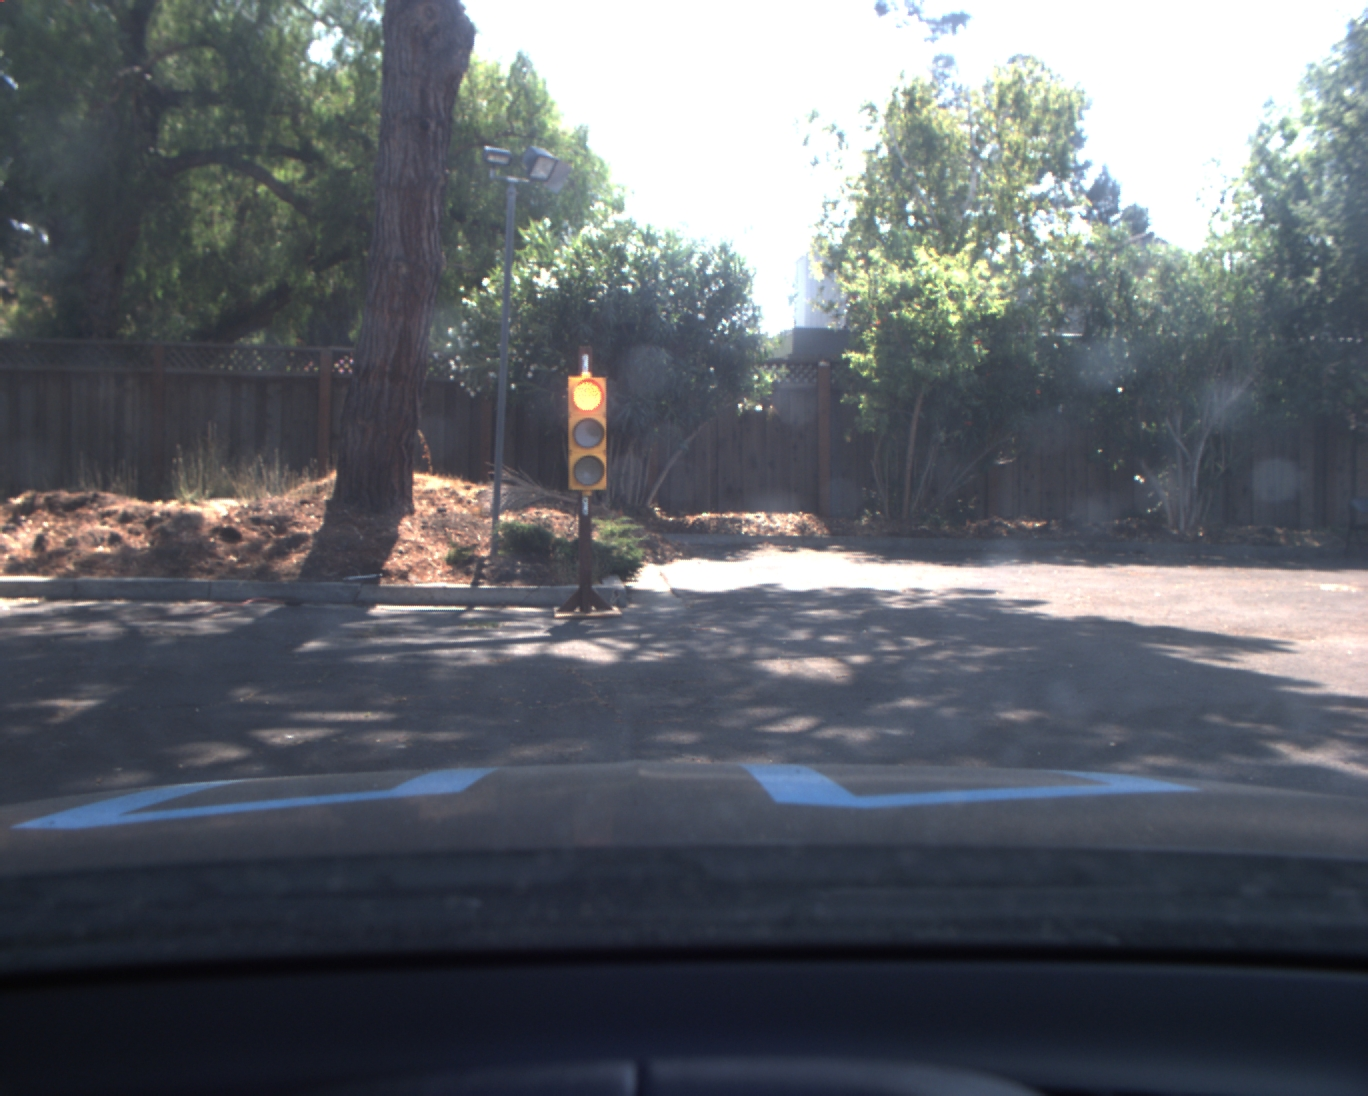red: (568, 375, 612, 495)
